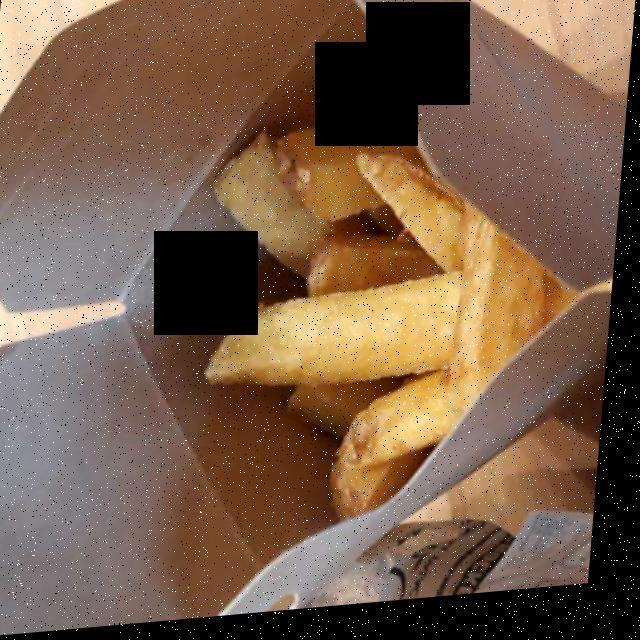chips-french-fries: (216, 125, 561, 509)
